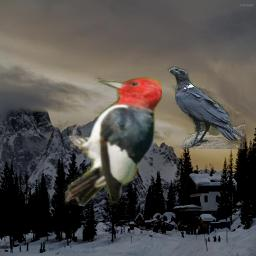Crow: (167, 66, 245, 149)
Woodpecker: (63, 76, 162, 206)
